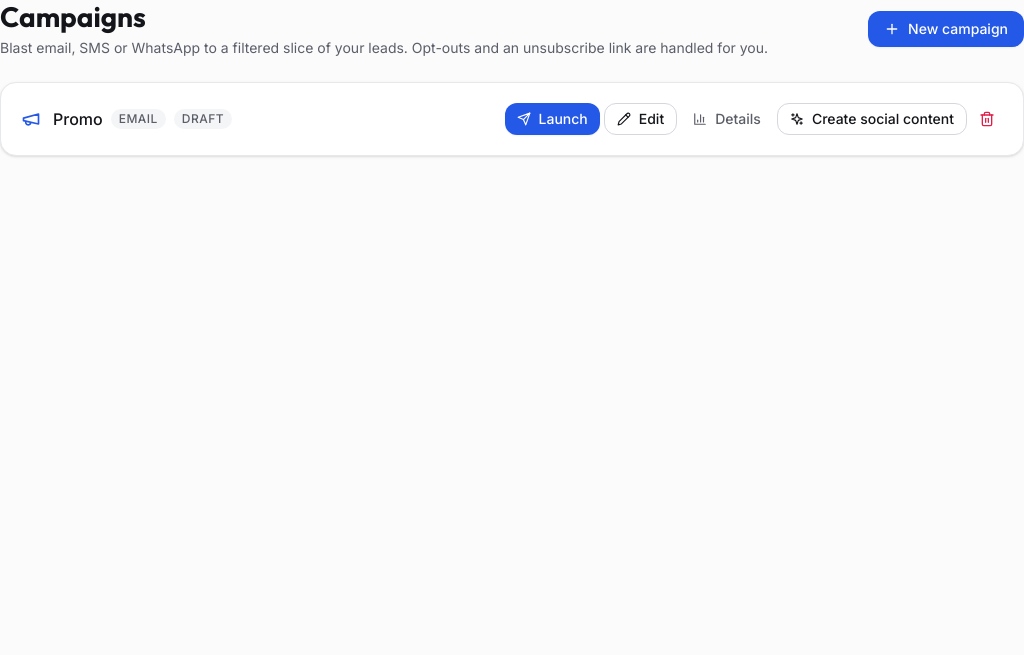
Test: CampaignsPage — channel picker SMS gate › shows the SMS option when the workspace has the sms feature
What coordinates should you click on to do the following:
click the button "New campaign"
I would click on:
 (946, 29)
Its box is left=868, top=11, right=1023, bottom=47.
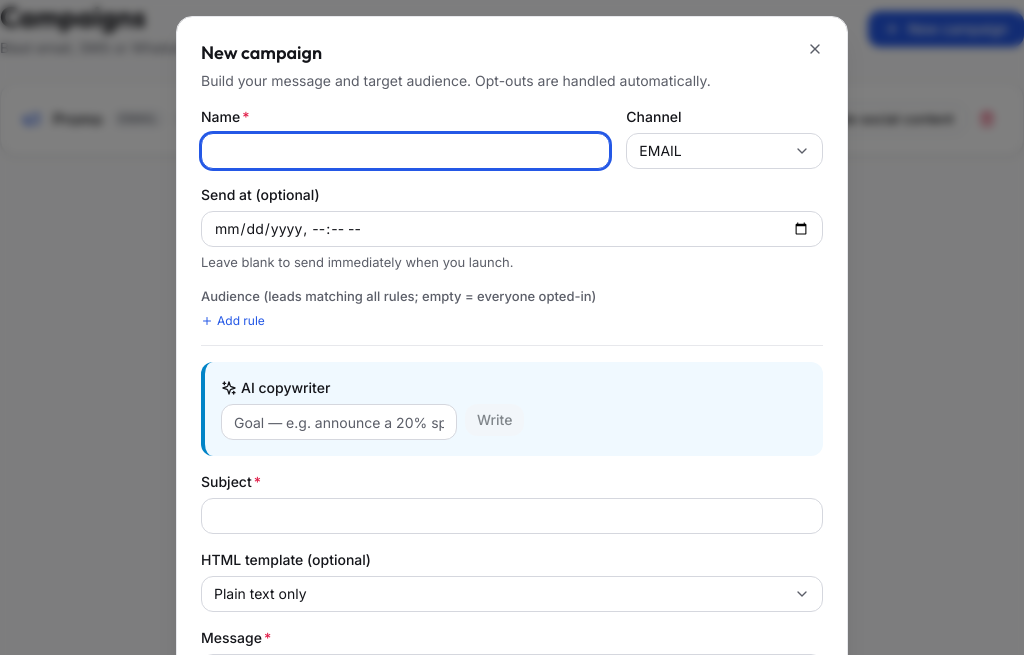
What coordinates should you click on to do the following:
click the dropdown named "Channel"
I would click on:
 (725, 151)
Its box is left=626, top=133, right=823, bottom=169.
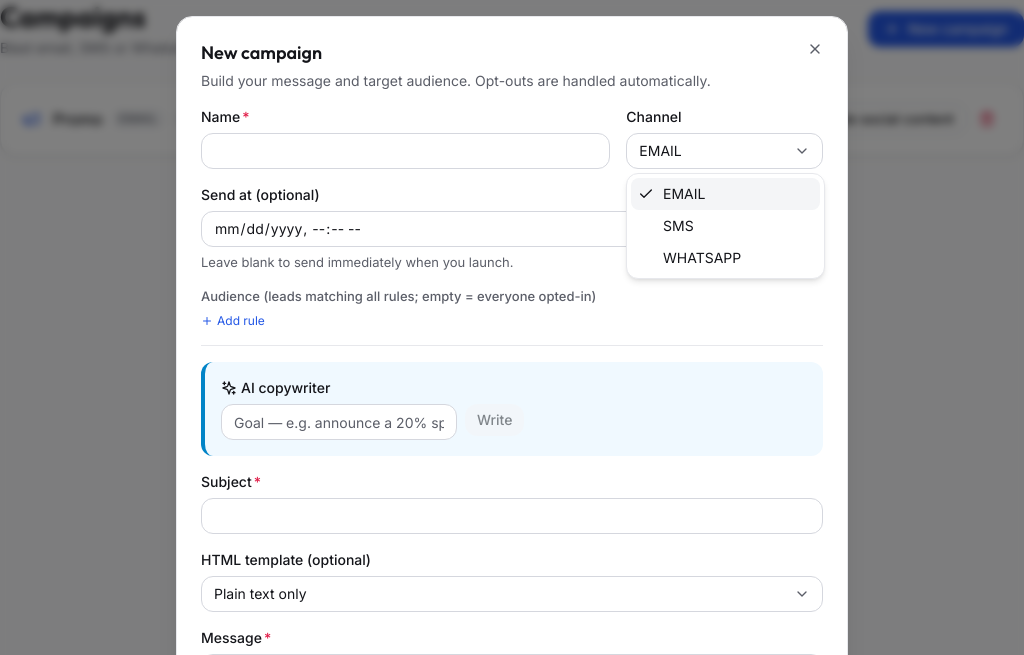
Check: the list is shown, box left=626, top=173, right=825, bottom=279
Check: the option "SMS" is shown, box left=663, top=217, right=694, bottom=234
